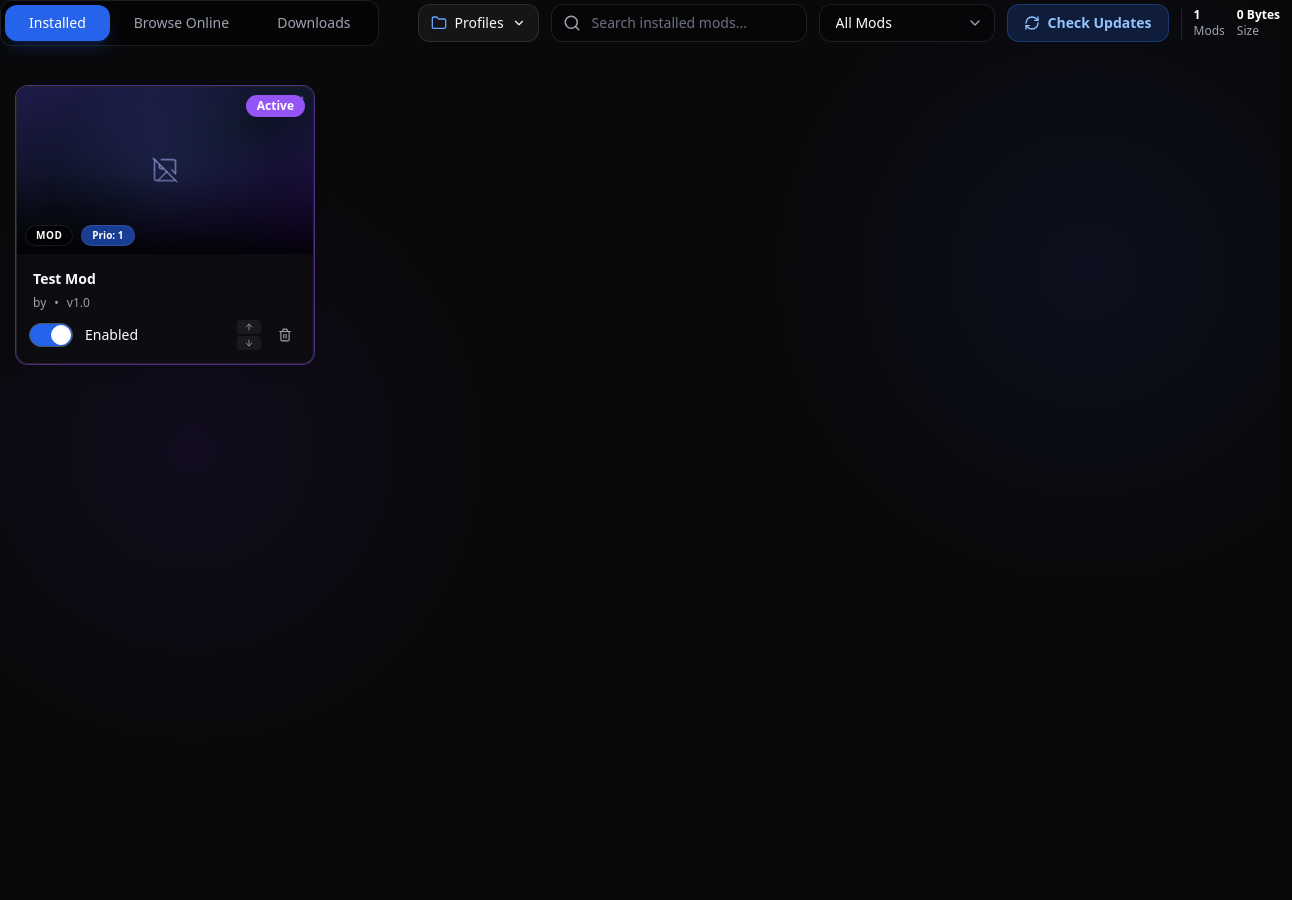
Test: Mods Page Coverage Gaps › should handle priority change failure
Expected: the heading "Test Mod" is shown, left=33, top=270, right=96, bottom=287
Click the button titled "Increase Priority" at (249, 327), box left=237, top=320, right=261, bottom=334
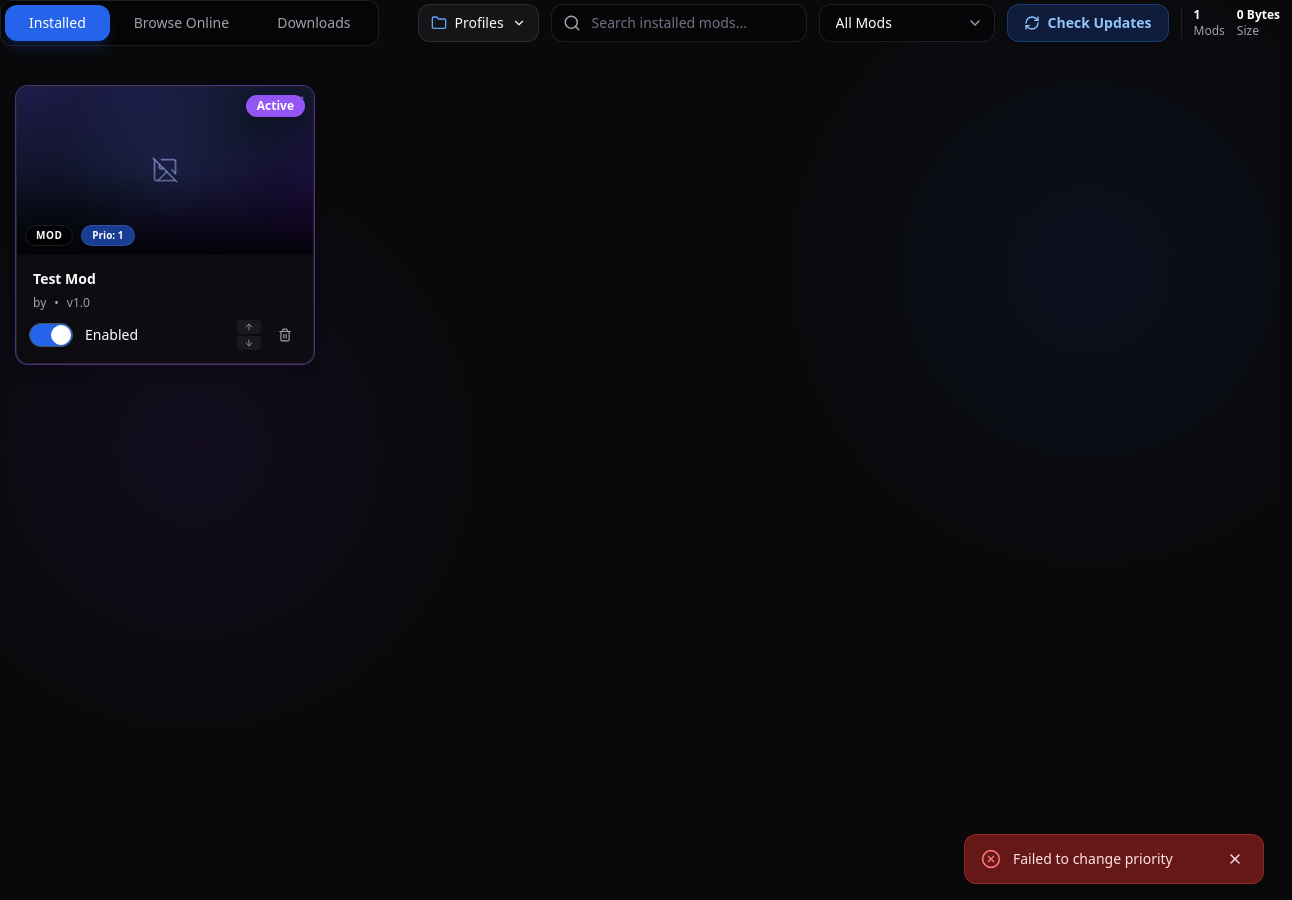
Result: the text "Failed to change priority" is shown at left=1013, top=849, right=1173, bottom=868
